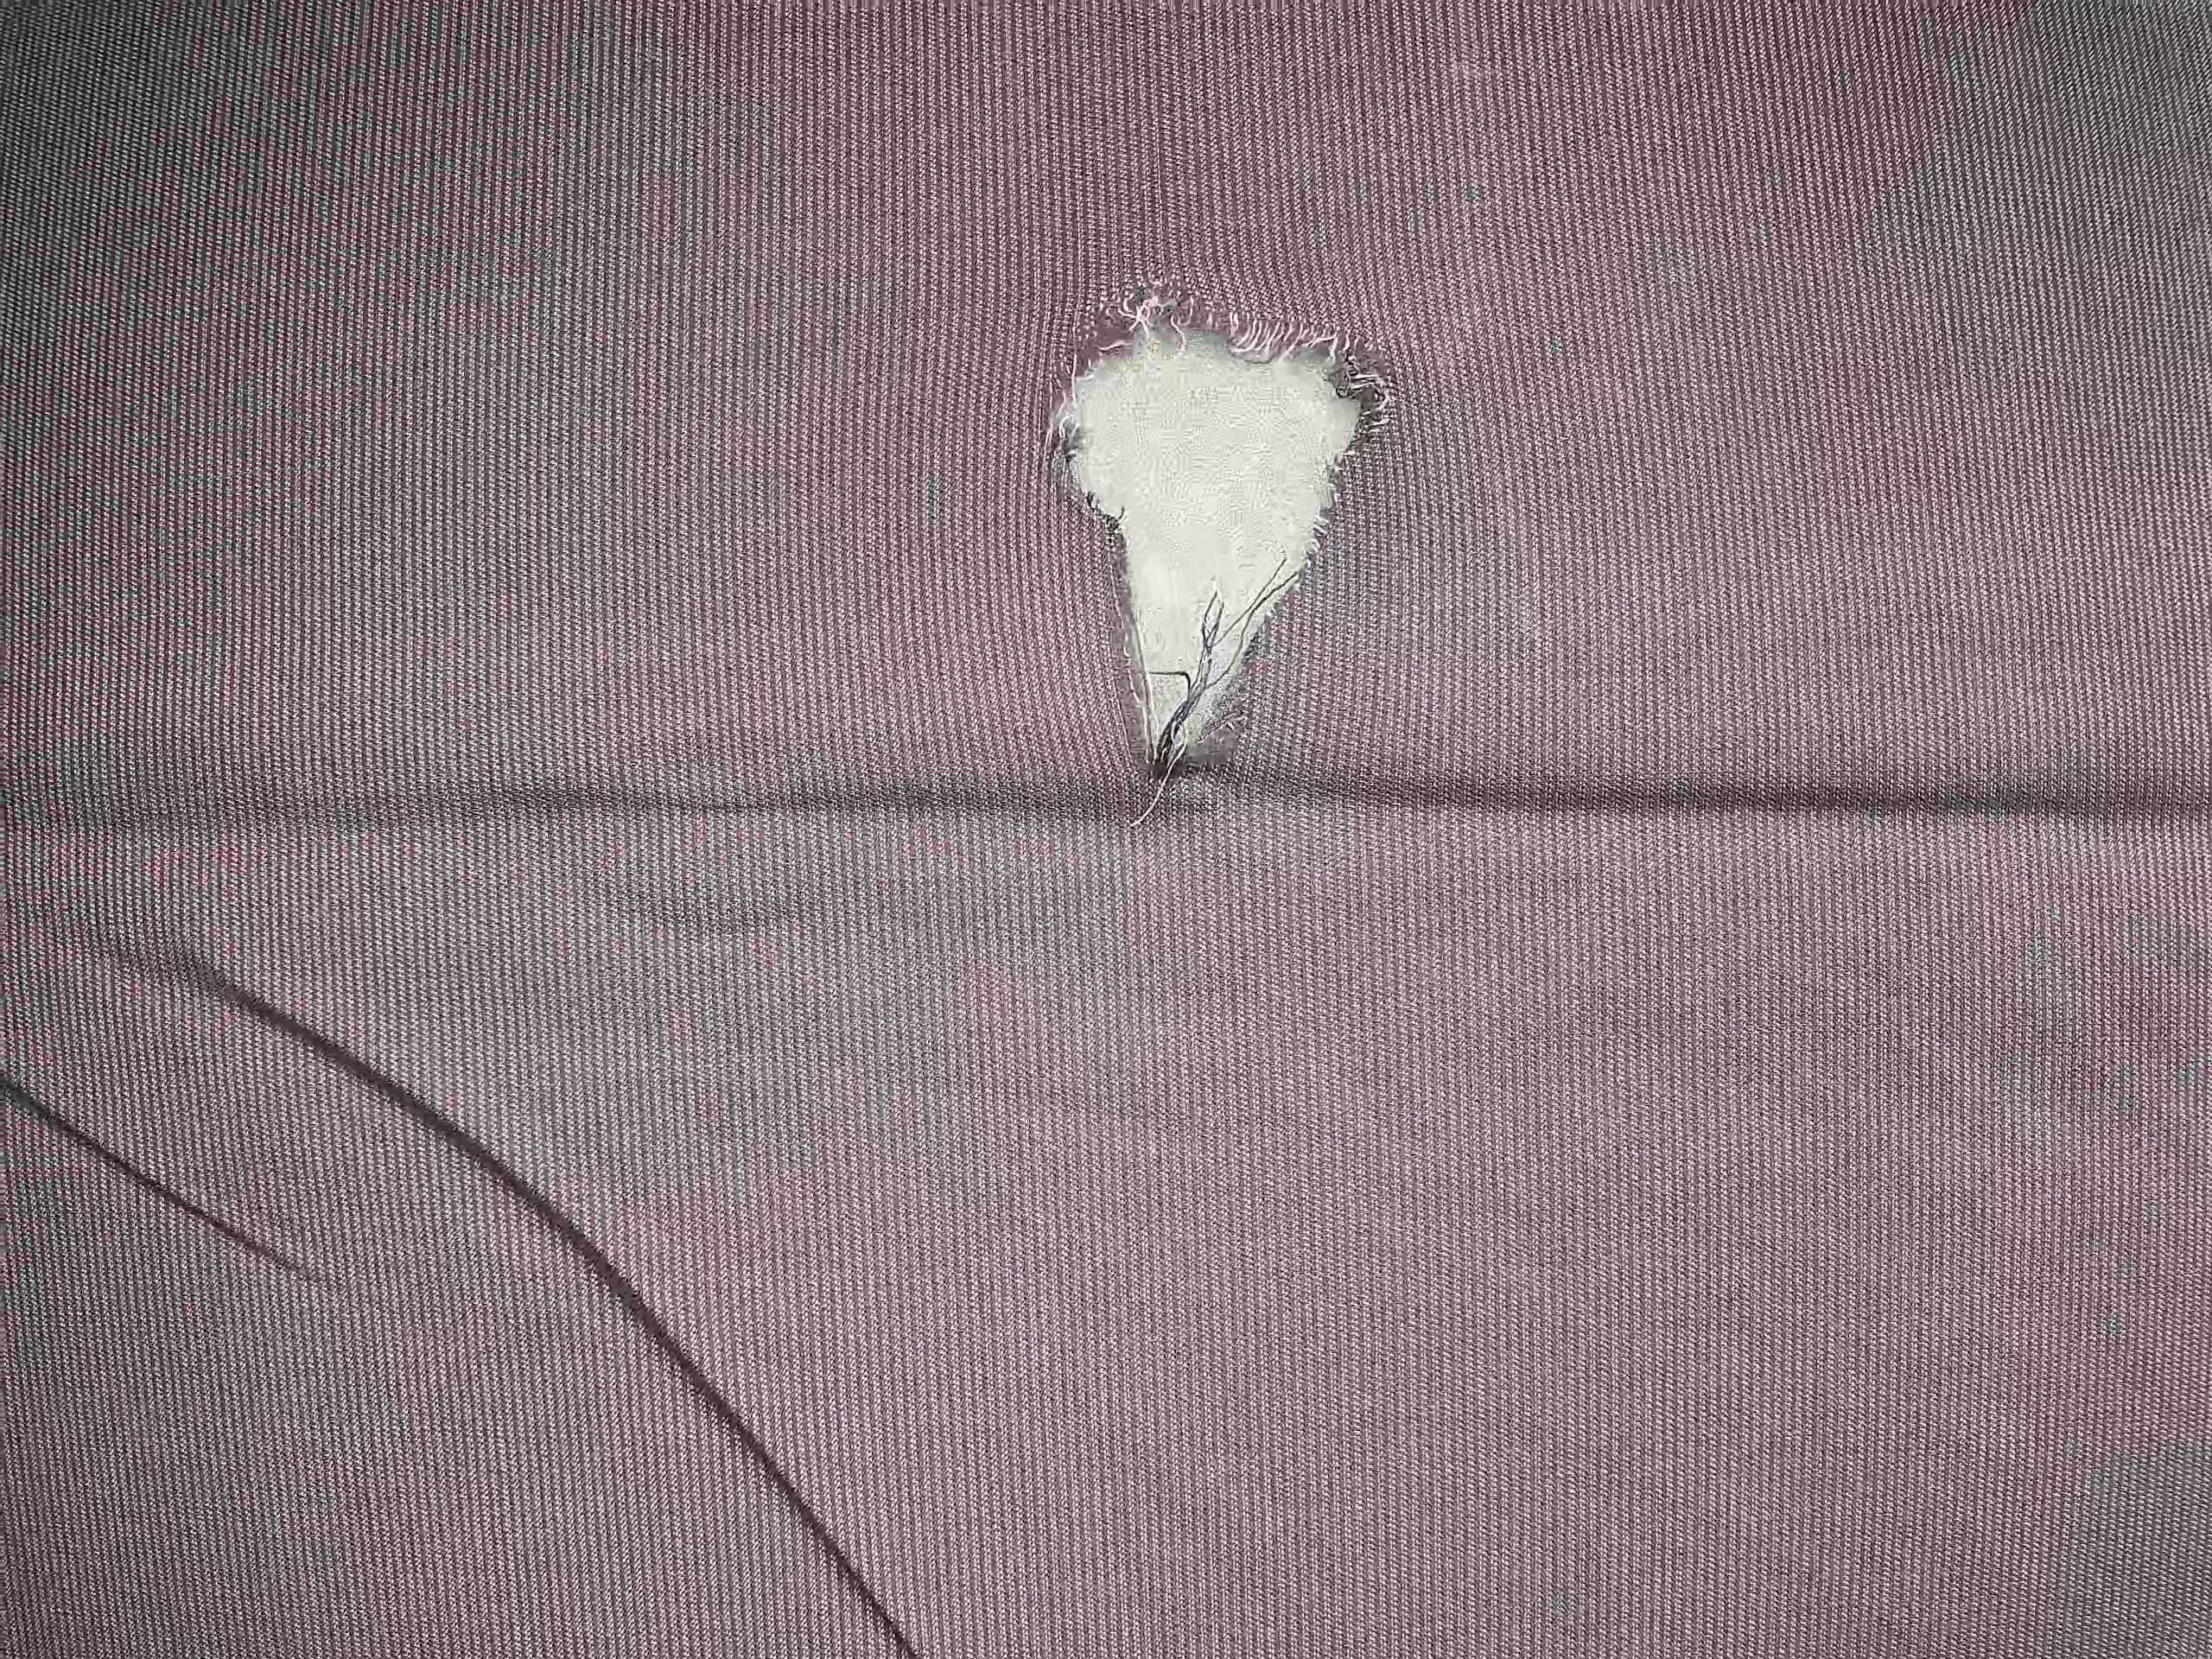rubbing-hole: (958, 227, 1449, 884)
